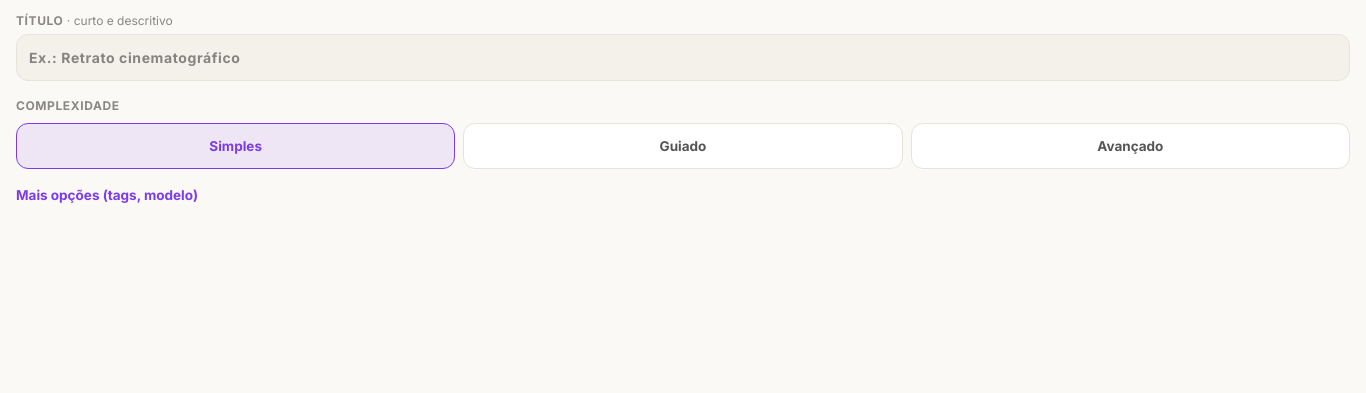
WizardStep1Basics › CREAT-01: Modelo recomendado field is hidden by default; clicking disclosure shows it
This screenshot has width=1366, height=393.
Expected: the field labelled "Modelo recomendado" is not shown
# Click disclosure
Click the button "Mais opções (tags, modelo)" at (107, 195), box [16,185,198,206]
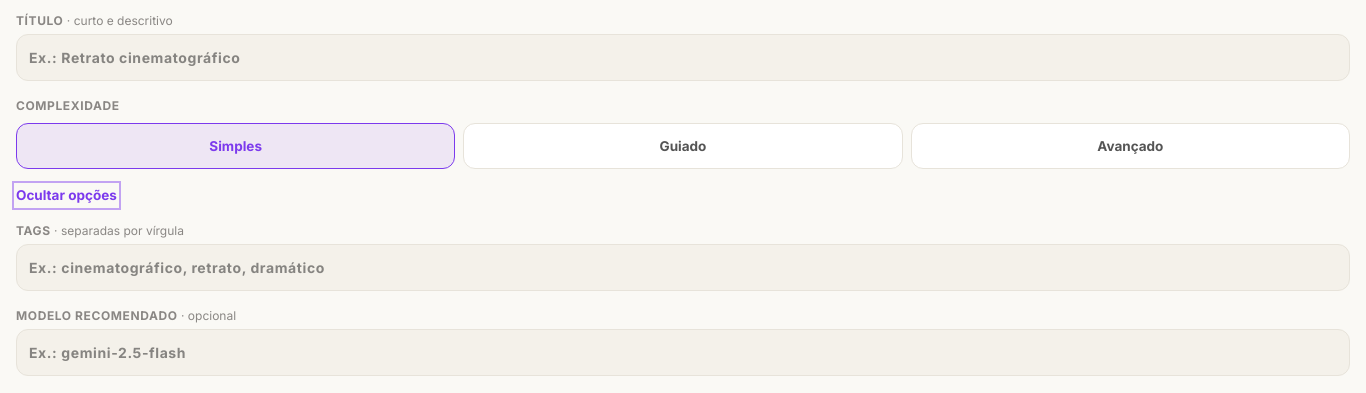
Expected: the field labelled "Modelo recomendado" is shown, [16,328,1350,376]
